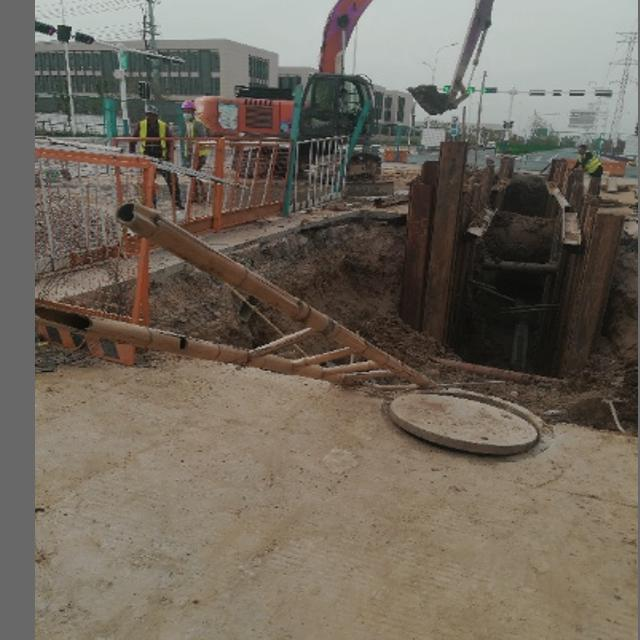uncovered: (388, 385, 559, 457)
